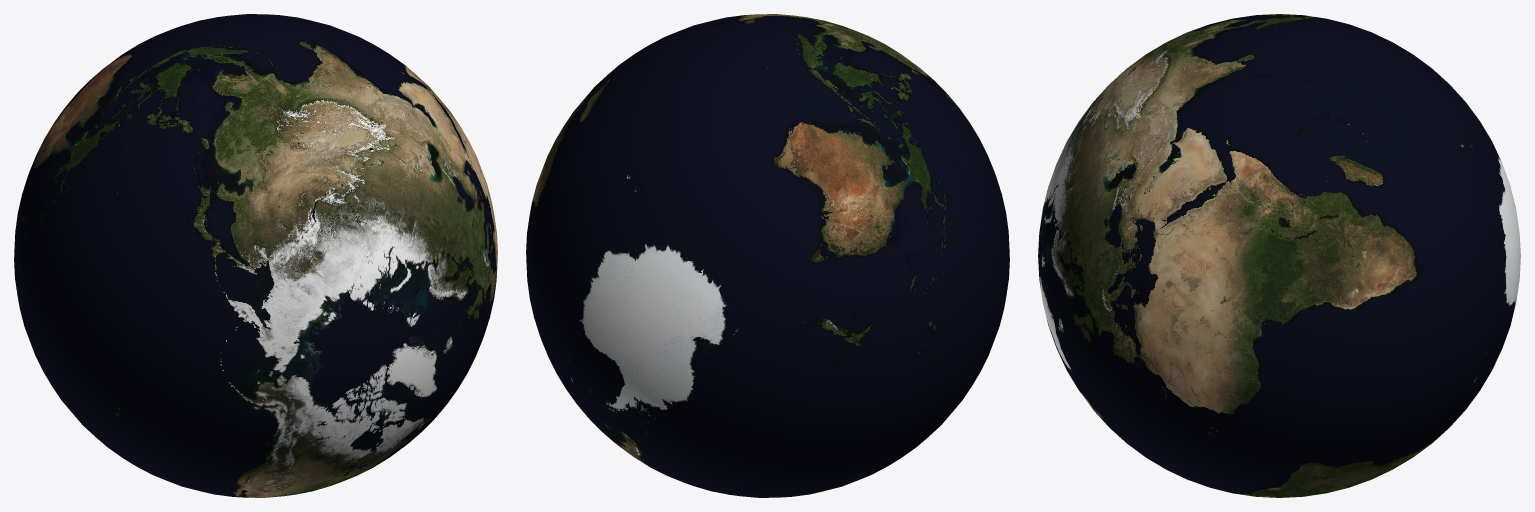
The picture shows the model from 3 angles, left to right: view 1: azimuth 30°, elevation 25°; view 2: azimuth 150°, elevation 25°; view 3: azimuth 270°, elevation 25°; orthographic projection.
Visible parts, largest first — view 1: DefaultName.006, DefaultName.003; view 2: DefaultName.006, DefaultName.003; view 3: DefaultName.006, DefaultName.003.
Part boxes in pixels (bbox=[...]): DefaultName.006: bbox=[14, 14, 497, 357]; DefaultName.003: bbox=[14, 260, 497, 497]; DefaultName.006: bbox=[526, 14, 1009, 357]; DefaultName.003: bbox=[526, 260, 1009, 497]; DefaultName.006: bbox=[1038, 14, 1520, 358]; DefaultName.003: bbox=[1038, 257, 1520, 497].
Bounding box in the file's own units: 127563 × 127563 × 127135.
2 materials, 2 textured.
